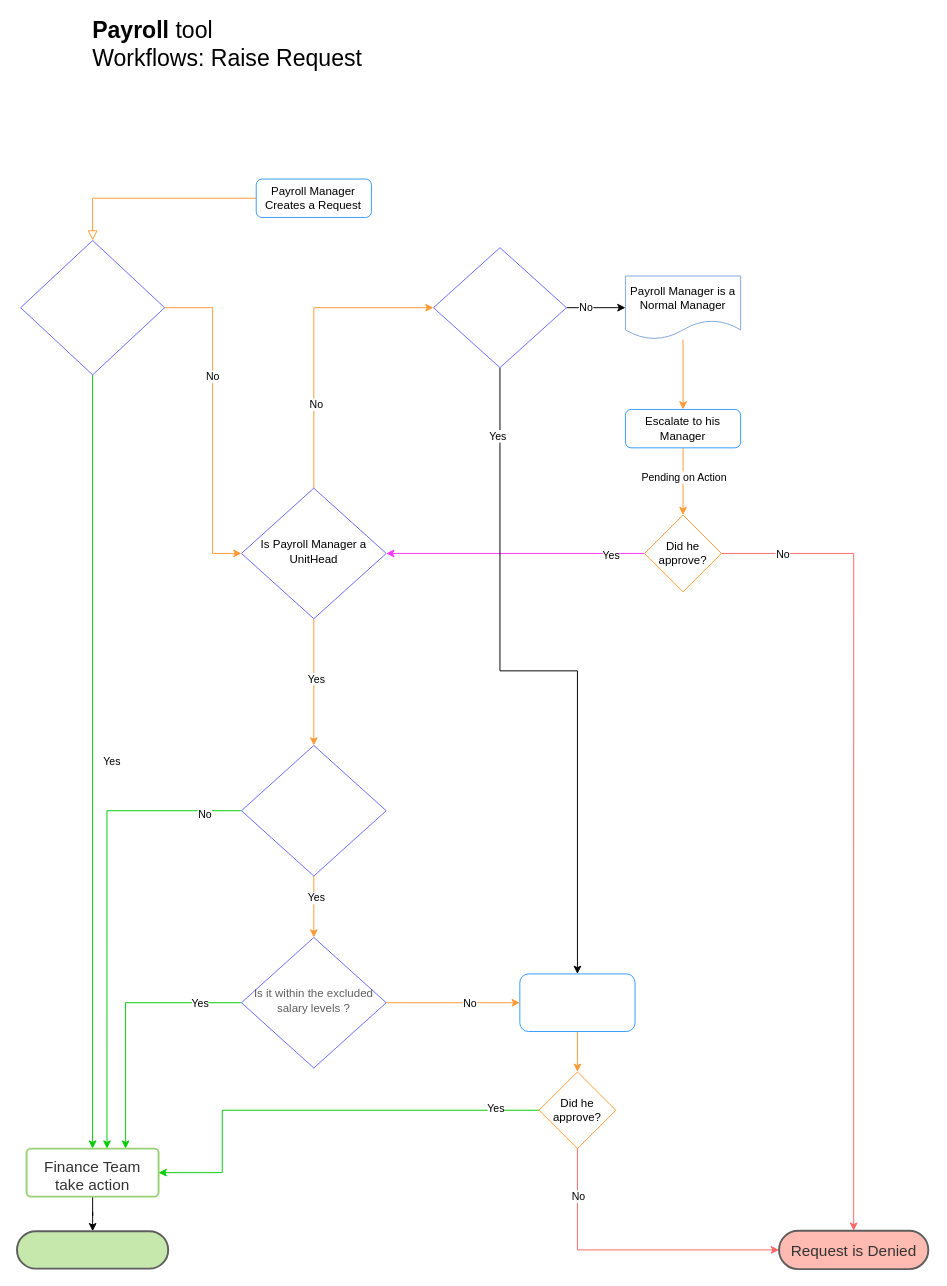
Image size: 947x1286. Some labels were removed from this diagram. Each missing label, with the centre of its shape:
"Escalate to CEO" goes at (x=577, y=1002).
"Is new gross value > Employee Level Range" goes at (x=313, y=810).
"Is Payroll Manager a CEO" goes at (x=92, y=307).
"Not a UnitHead AND Reports to CEO" goes at (x=499, y=307).
"Raise is Applied" goes at (x=92, y=1249).
